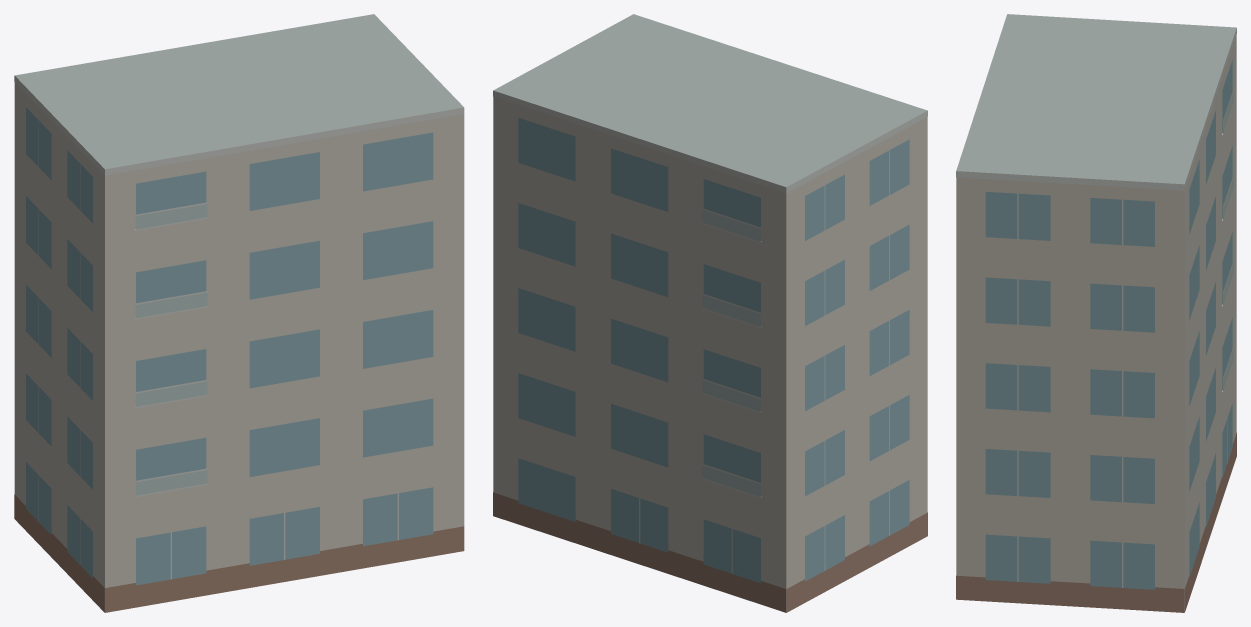
File: survey-upis-33010295.glb
3 views of the same model, side by side, from view 1: azimuth 30°, elevation 25°; view 2: azimuth 150°, elevation 25°; view 3: azimuth 270°, elevation 25° (orthographic). The views are drawn at different scales.
Visible parts, largest first — view 1: survey-upis-33010295.tmp; view 2: survey-upis-33010295.tmp; view 3: survey-upis-33010295.tmp.
Part boxes in pixels (x1,y1,x2,y2): survey-upis-33010295.tmp: (14,14,464,612); survey-upis-33010295.tmp: (493,14,927,612); survey-upis-33010295.tmp: (956,14,1236,612).
Bounding box in the file's own units: 14.35 × 16.83 × 10.
